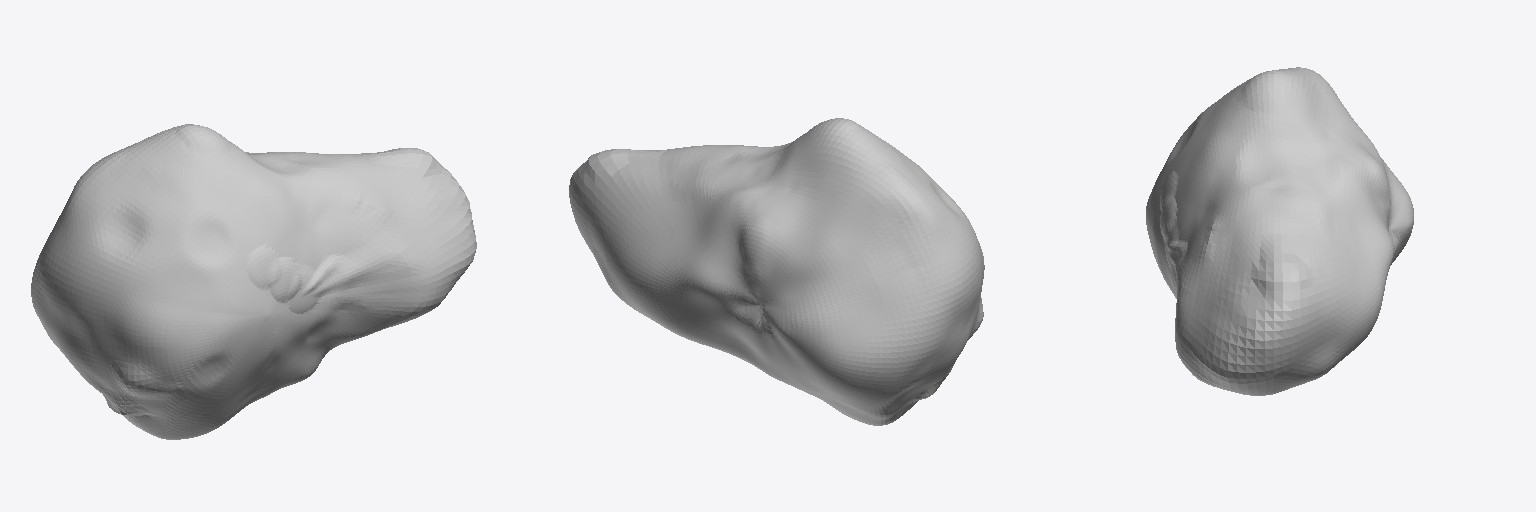
The model's file is 951gaspra.obj.
3 views of the same model, side by side, from view 1: azimuth 30°, elevation 25°; view 2: azimuth 150°, elevation 25°; view 3: azimuth 270°, elevation 25° (orthographic).
Bounding box in the file's own units: 18.56 × 13.04 × 10.66.